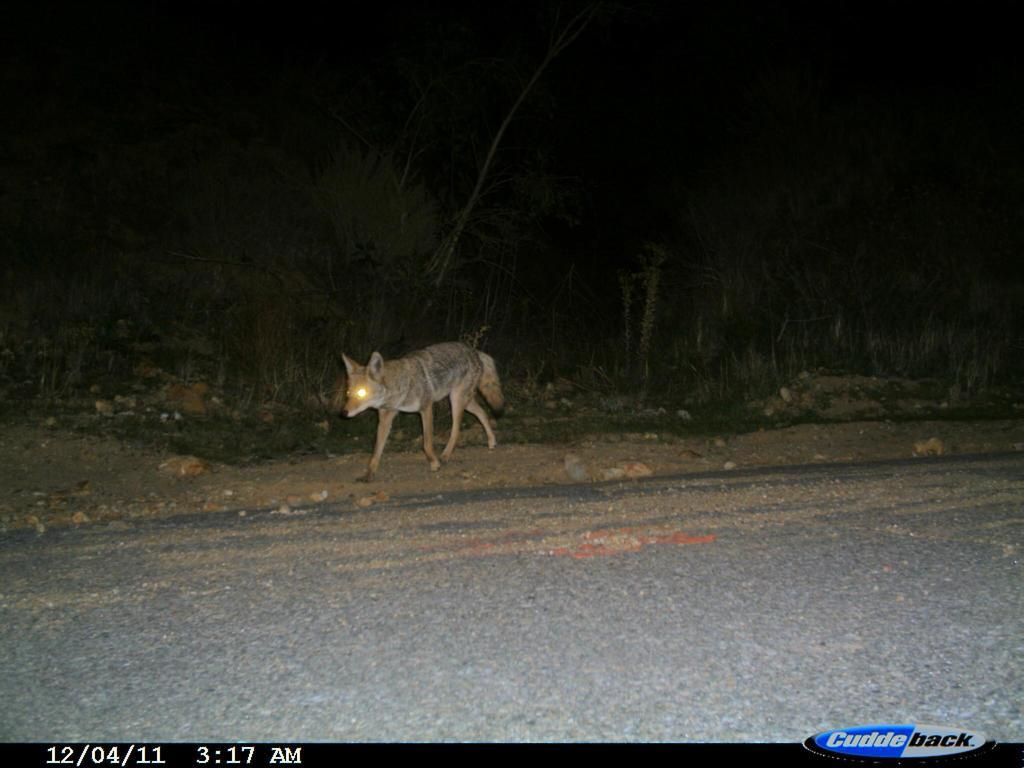coyote: (335, 331, 515, 491)
